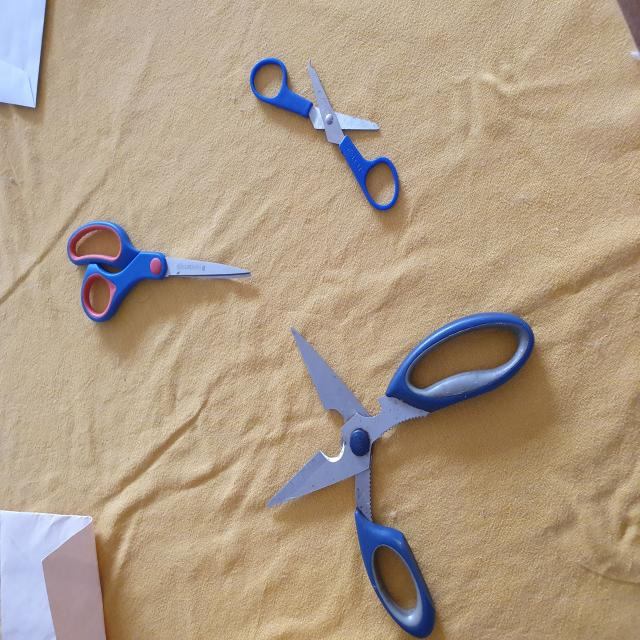scissors: (265, 309, 535, 640), (244, 54, 404, 212), (65, 212, 251, 326)
